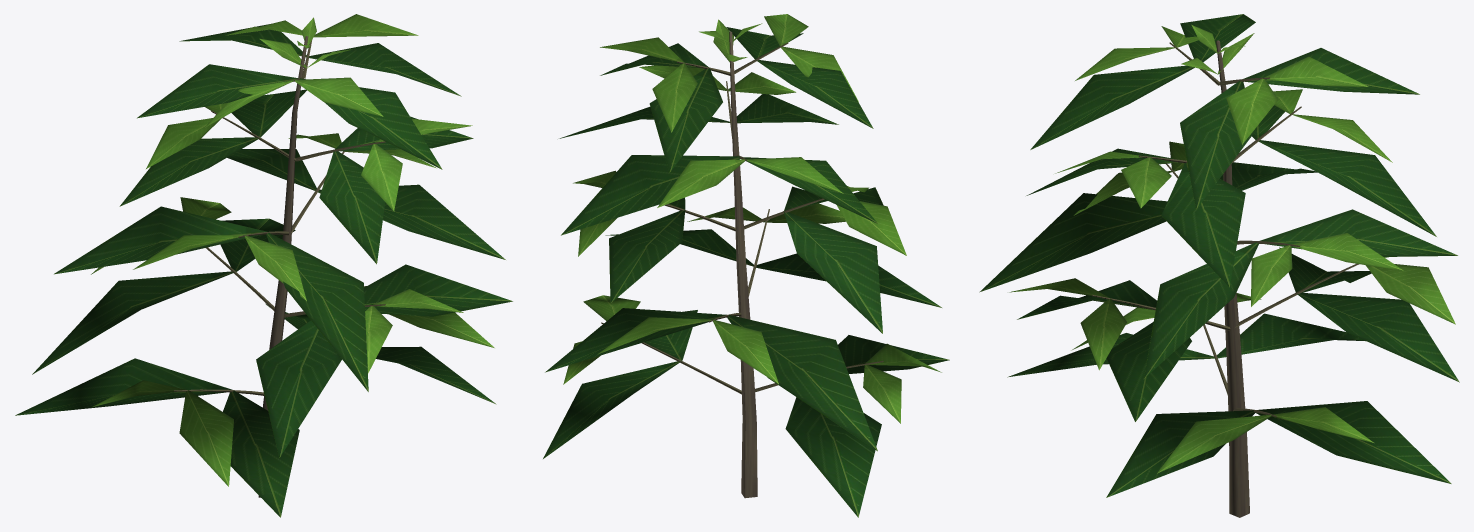
File: coffea-liberica-young-lod1.glb
3 renders of one model, left to right at view 1: azimuth 30°, elevation 25°; view 2: azimuth 150°, elevation 25°; view 3: azimuth 270°, elevation 25°, orthographic. The views are drawn at different scales.
Visible parts, largest first — view 1: coffee_leaves, coffee_bark; view 2: coffee_leaves, coffee_bark; view 3: coffee_leaves, coffee_bark.
Part boxes in pixels (<box>): coffee_leaves: <box>15,14,512,517</box>; coffee_bark: <box>174,36,385,497</box>; coffee_leaves: <box>543,14,949,517</box>; coffee_bark: <box>601,31,883,498</box>; coffee_leaves: <box>979,14,1459,497</box>; coffee_bark: <box>1092,40,1358,517</box>.
Size of the model in its own units: 1.03 by 1.18 by 1.04.
Materials: 2 (2 with a texture image).
